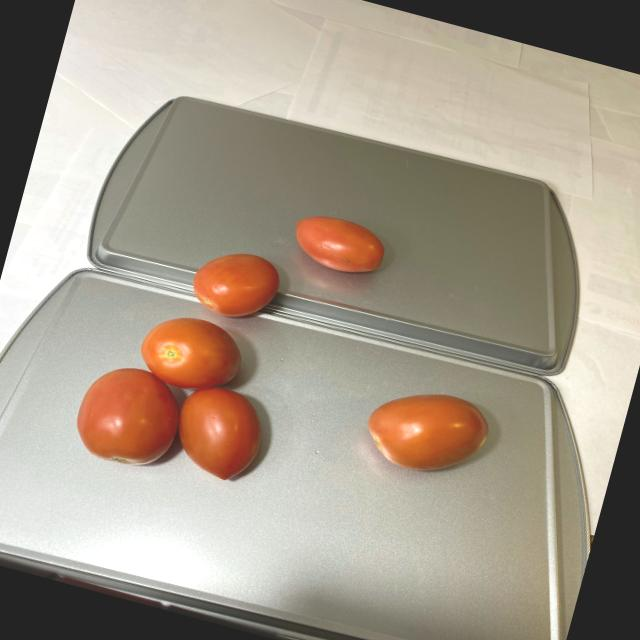tomato: (69, 292, 292, 503), (183, 183, 394, 355), (358, 374, 504, 490)
